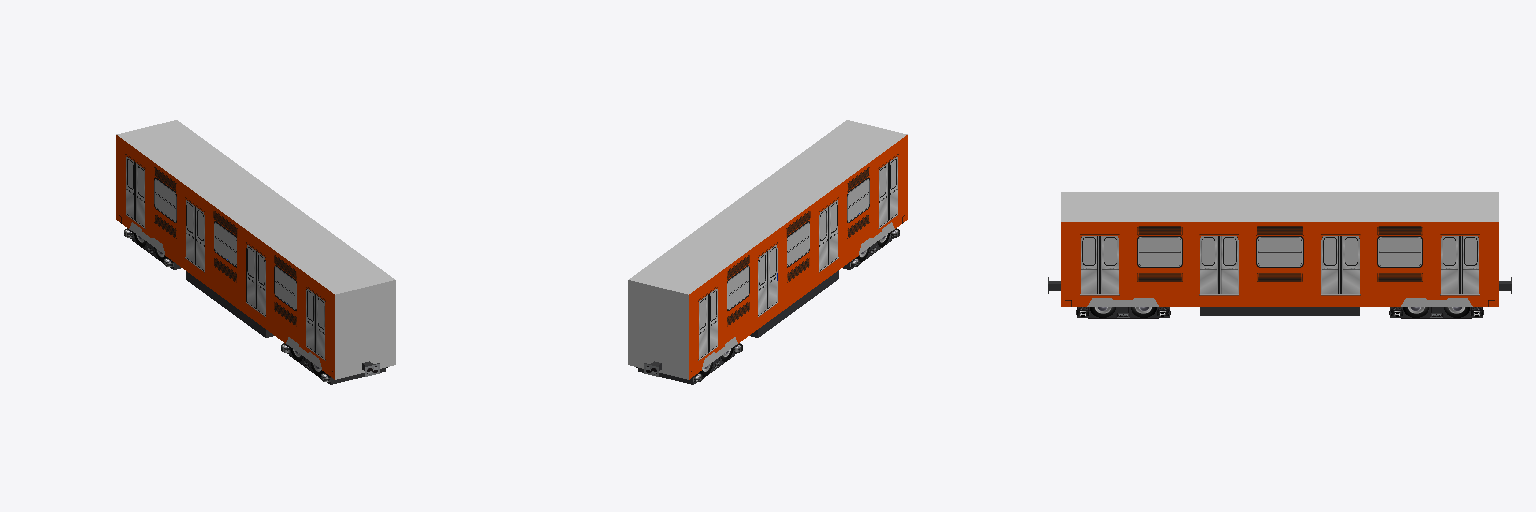
3 renders of one model, left to right at view 1: azimuth 30°, elevation 25°; view 2: azimuth 150°, elevation 25°; view 3: azimuth 270°, elevation 25°, orthographic.
Parts seen in each view (by area): view 1: body_ext, body_int, door_LB_ext, door_LF_ext, bogie; view 2: body_ext, body_int, door_LF_ext, door_LB_ext, bogie; view 3: body_ext, body_int, door_RF_ext, door_RB_ext, bogie.
Part boxes in pixels (bbox=[...]): body_ext: bbox=[116, 120, 395, 379]; body_int: bbox=[128, 160, 323, 369]; door_LB_ext: bbox=[126, 157, 315, 351]; door_LF_ext: bbox=[136, 163, 324, 358]; bogie: bbox=[124, 228, 387, 384]; body_ext: bbox=[628, 120, 907, 379]; body_int: bbox=[700, 160, 895, 369]; door_LF_ext: bbox=[708, 157, 897, 351]; door_LB_ext: bbox=[699, 163, 887, 358]; bogie: bbox=[636, 228, 899, 384]; body_ext: bbox=[1061, 192, 1498, 315]; body_int: bbox=[1083, 238, 1476, 306]; door_RF_ext: bbox=[1100, 236, 1478, 293]; door_RB_ext: bbox=[1081, 236, 1459, 293]; bogie: bbox=[1048, 277, 1511, 318].
Bounding box in the file's own units: 2.34 × 3.38 × 14.57.
Materials: 17 (14 with a texture image).